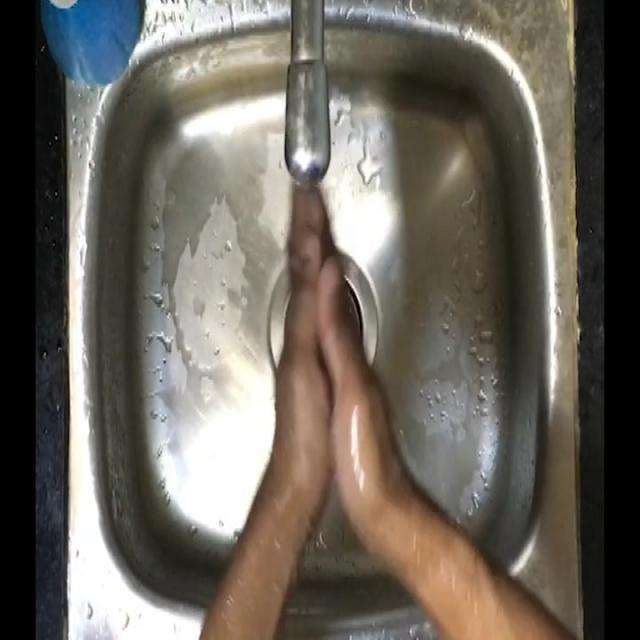step_1: (255, 147, 397, 500)
